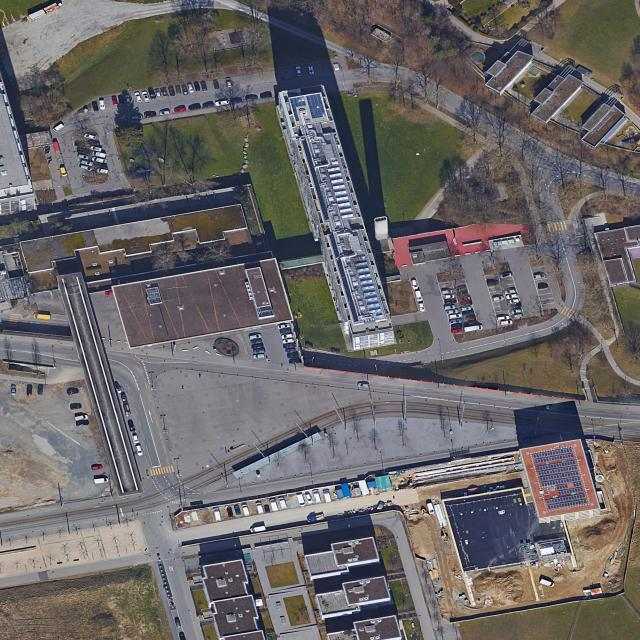large-vehicle: (306, 514, 325, 522), (539, 579, 555, 588), (312, 490, 322, 504), (463, 325, 483, 332), (91, 156, 108, 164), (269, 499, 279, 512), (323, 490, 333, 503), (250, 525, 266, 533), (297, 493, 306, 507), (213, 508, 222, 521), (52, 123, 65, 132), (33, 314, 52, 320), (52, 141, 61, 153), (241, 504, 250, 516), (279, 497, 288, 509), (426, 503, 435, 514), (92, 151, 106, 158), (123, 403, 131, 415), (94, 478, 109, 484), (256, 503, 264, 514), (90, 146, 102, 152)
small-vehicle: (75, 148, 91, 155), (141, 91, 150, 103), (167, 85, 176, 97), (75, 140, 87, 149), (259, 93, 273, 100), (174, 617, 182, 629), (87, 139, 100, 146), (75, 414, 88, 421), (234, 505, 242, 516), (26, 385, 34, 396), (415, 291, 423, 302), (215, 100, 229, 106), (161, 86, 168, 98), (448, 313, 462, 319), (134, 92, 142, 102), (181, 85, 189, 95), (60, 167, 68, 177), (226, 507, 234, 517), (305, 493, 313, 503), (411, 280, 419, 290), (144, 112, 157, 118), (188, 105, 201, 111), (249, 334, 262, 340), (80, 165, 93, 171), (357, 382, 370, 388), (466, 320, 479, 326), (443, 305, 456, 311), (460, 301, 473, 307), (487, 281, 500, 287), (491, 296, 504, 302), (38, 384, 45, 395), (148, 90, 156, 99), (84, 134, 96, 140), (104, 290, 116, 296), (77, 420, 89, 426), (459, 296, 471, 302), (295, 67, 302, 77), (118, 95, 125, 105), (99, 100, 106, 110), (132, 435, 139, 445), (136, 445, 143, 455), (128, 420, 135, 430), (115, 384, 122, 394), (448, 319, 462, 324), (496, 316, 510, 321), (456, 286, 467, 292), (534, 273, 545, 279), (91, 464, 102, 470), (70, 403, 81, 409), (511, 308, 522, 314), (502, 319, 513, 325), (537, 283, 548, 289), (461, 306, 472, 312), (277, 324, 290, 329), (96, 169, 109, 174), (289, 359, 302, 364), (446, 310, 459, 315), (188, 84, 195, 93), (194, 82, 201, 91), (201, 82, 208, 91), (308, 66, 315, 75), (111, 97, 118, 106), (92, 102, 99, 111), (120, 392, 127, 401), (202, 103, 214, 108), (159, 110, 171, 115), (174, 108, 186, 113), (281, 334, 293, 339), (226, 78, 232, 88), (245, 96, 257, 101), (250, 340, 262, 345), (252, 344, 264, 349), (81, 161, 93, 166), (78, 154, 90, 159), (282, 339, 294, 344), (284, 344, 296, 349), (451, 329, 463, 334), (463, 311, 475, 316), (504, 289, 516, 294), (506, 294, 518, 299), (11, 385, 17, 395), (155, 89, 162, 97), (418, 303, 425, 311), (457, 290, 468, 295), (132, 115, 143, 120), (231, 99, 242, 104), (280, 329, 291, 334), (67, 389, 78, 394), (510, 303, 521, 308), (287, 353, 298, 358), (442, 290, 453, 295), (465, 316, 476, 321), (509, 299, 520, 304), (213, 81, 219, 90), (499, 274, 512, 278), (254, 354, 264, 359), (286, 348, 296, 353), (264, 505, 271, 512), (125, 95, 131, 103), (444, 295, 455, 299), (451, 324, 462, 328), (176, 86, 181, 94), (254, 350, 265, 353), (445, 300, 456, 303)
